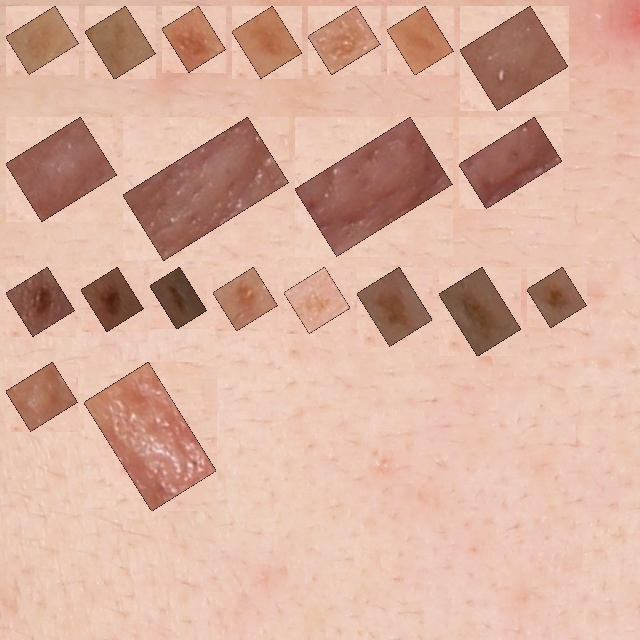hypertrophic_scar: (134, 128, 277, 249), (306, 128, 441, 245), (95, 373, 205, 500), (17, 128, 106, 210), (471, 17, 557, 99), (470, 128, 551, 197), (17, 373, 67, 420)
melasma: (450, 278, 510, 345), (368, 278, 421, 335), (96, 17, 144, 68), (243, 17, 291, 67), (17, 17, 67, 63), (319, 17, 369, 63), (398, 17, 442, 64), (295, 278, 339, 322), (224, 278, 267, 320), (173, 17, 214, 61), (538, 278, 575, 316)
nevus: (17, 278, 64, 325), (92, 278, 132, 320)
